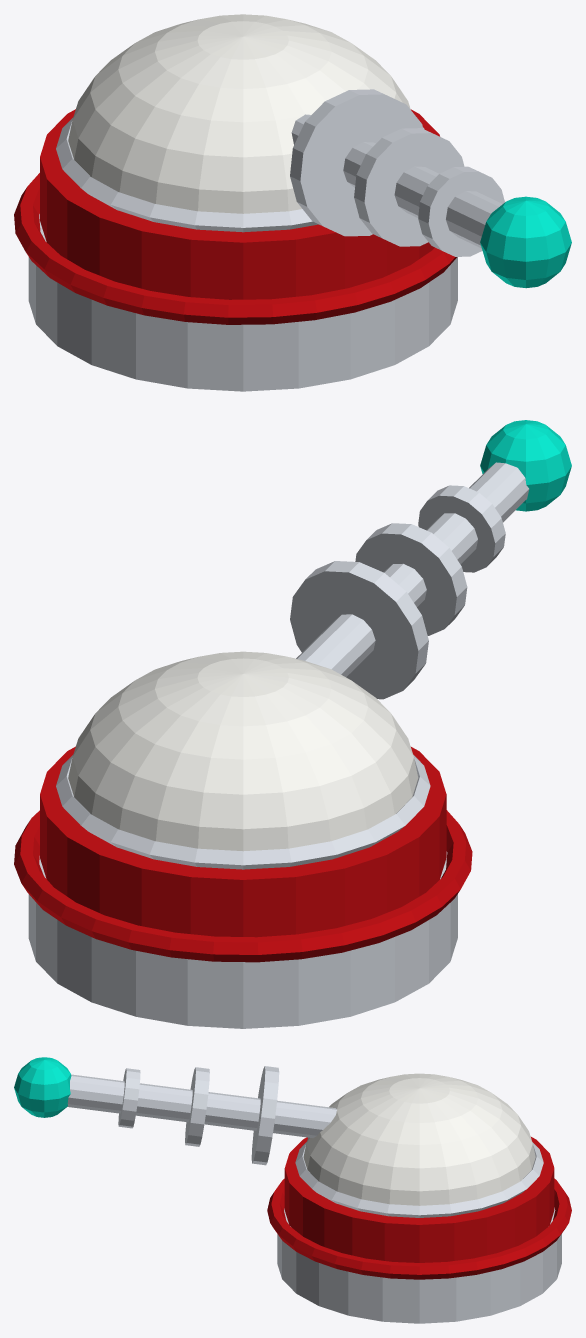
The model's file is turret.obj.
3 renders of one model, top to bottom at view 1: azimuth 30°, elevation 25°; view 2: azimuth 150°, elevation 25°; view 3: azimuth 270°, elevation 25°, orthographic. The views are drawn at different scales.
Parts seen in each view (by area): view 1: turret; view 2: turret; view 3: turret.
Part boxes in pixels (x1,y1,x2,y2): turret: (14,14,571,391); turret: (14,420,571,1028); turret: (14,1057,571,1323).
Bounding box in the file's own units: 21.85 × 16.11 × 40.
1 material, 1 textured.
